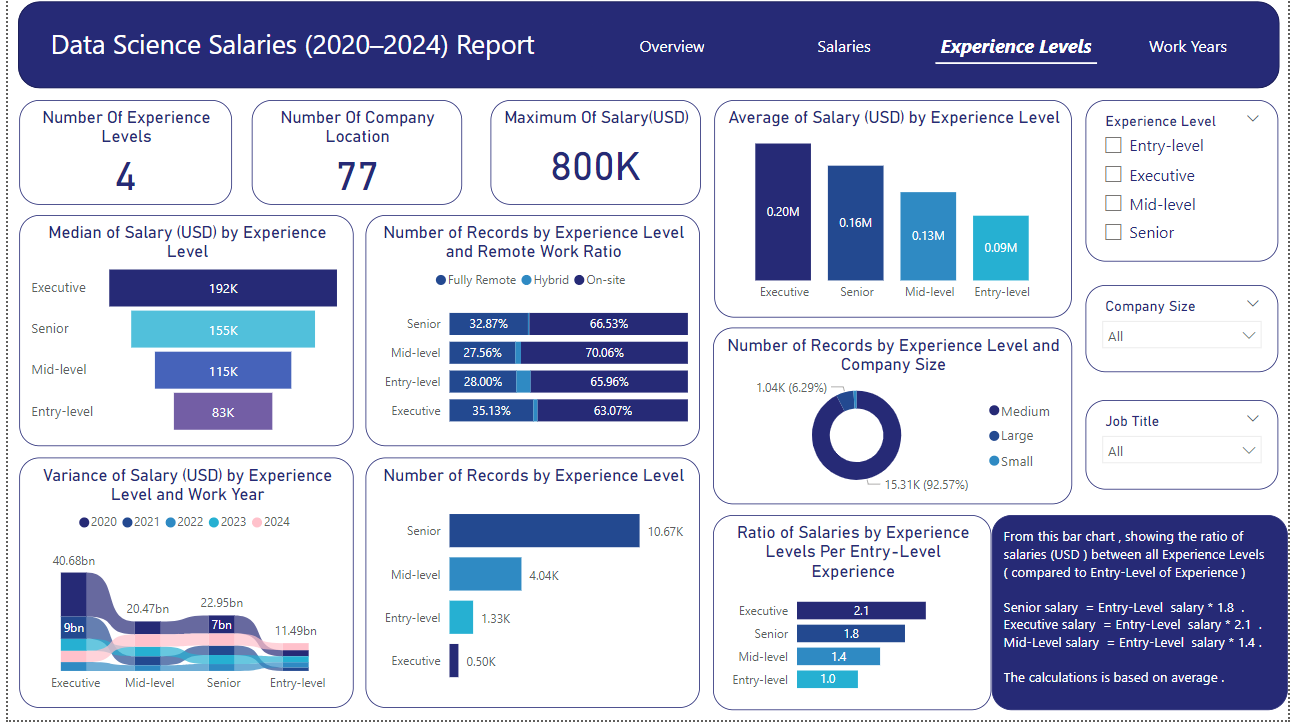

This screenshot's page, from the dashboard's own definition file:
{"tool":"powerbi","page":{"name":"Experience Levels","canvas":[1280,720],"ordinal":2},"visuals":[{"type":"shape","box":[10.5,1.2,1261.6,87.2],"z":0},{"type":"textbox","box":[30.2,20.5,509.1,45.8],"z":1000},{"type":"barChart","title":"Number of Records by Experience Level ","fields":{"Category":["Dataset salary 2024.Experience Level"],"Y":["CountNonNull(Dataset salary 2024.Experience Level)"],"Series":["Dataset salary 2024.Experience Level"]},"box":[357.9,458.1,334.7,250.4],"z":2000},{"type":"donutChart","title":"Number of Records by Experience Level and Company Size","fields":{"Category":["Dataset salary 2024.Company Size"],"Y":["CountNonNull(Dataset salary 2024.Experience Level)"]},"box":[704.9,327.4,359.2,177.1],"z":3000},{"type":"card","title":"Number Of Experience Levels","fields":{"Values":["Count(Dataset salary 2024.Experience Level)"]},"box":[11,100.2,212.6,105.1],"z":4000},{"type":"slicer","fields":{"Values":["Dataset salary 2024.Company Size"]},"box":[1077.4,284.7,193,86.9],"z":5000},{"type":"slicer","fields":{"Values":["Dataset salary 2024.Job Title"]},"box":[1077.4,400.5,193,89.3],"z":6000},{"type":"slicer","fields":{"Values":["Dataset salary 2024.Experience Level"]},"box":[1077.4,100.1,193,161.7],"z":7000},{"type":"columnChart","title":"Average of Salary (USD) by Experience Level ","fields":{"Category":["Dataset salary 2024.Experience Level"],"Y":["Avg(Dataset salary 2024.Salary (USD))"],"Series":["Dataset salary 2024.Experience Level"]},"box":[706.1,100.2,357.9,217.4],"z":8000},{"type":"card","title":"Number Of Company Location","fields":{"Values":["Count(Dataset salary 2024.Company Location)"]},"box":[244.3,100.2,210.1,105.1],"z":9000},{"type":"card","title":"Maximum Of Salary(USD)","fields":{"Values":["Max(Dataset salary 2024.Salary (USD))"]},"box":[482.5,100.2,210.1,105.1],"z":10000},{"type":"hundredPercentStackedBarChart","title":"Number of Records by Experience Level and Remote Work Ratio","fields":{"Category":["Dataset salary 2024.Experience Level"],"Y":["CountNonNull(Dataset salary 2024.Remote Work Ratio)"],"Series":["Dataset salary 2024.Remote Work Ratio"]},"box":[357.9,215,334.7,230.9],"z":11000},{"type":"pageNavigator","box":[576.7,20.1,694.8,51.5],"z":12000},{"type":"funnel","fields":{"Category":["Dataset salary 2024.Experience Level"],"Y":["Median(Dataset salary 2024.Salary (USD))"]},"box":[11,215,334.7,230.9],"z":13000},{"type":"ribbonChart","title":"Variance of Salary (USD) by Experience Level and Work Year ","fields":{"Category":["Dataset salary 2024.Experience Level"],"Y":["Variance(Dataset salary 2024.Salary (USD))"],"Series":["Dataset salary 2024.Work Year"]},"box":[11,458.1,334.7,250.4],"z":14000},{"type":"barChart","title":"Ratio of Salaries by Experience Levels Per Entry-Level Experience ","fields":{"Category":["Dataset salary 2024.Experience Level"],"Y":["Dataset salary 2024.Ratio To Entry-Level Salary"],"Series":["Dataset salary 2024.Experience Level"]},"box":[705,515,278.8,195],"z":15000},{"type":"textbox","box":[983.8,515,296.2,195],"z":16000}]}

Visuals, with their boxes in screenshot pixels (x1, y1, x2, y2), scaled from the page's 1280x720 canvas onto the 1295x726 screenshot:
shape: <bbox>11, 1, 1287, 89</bbox>
textbox: <bbox>31, 21, 546, 67</bbox>
"Number of Records by Experience Level " barChart: <bbox>362, 462, 701, 714</bbox>
"Number of Records by Experience Level and Company Size" donutChart: <bbox>713, 330, 1077, 509</bbox>
"Number Of Experience Levels" card: <bbox>11, 101, 226, 207</bbox>
slicer - Dataset salary 2024.Company Size: <bbox>1090, 287, 1285, 375</bbox>
slicer - Dataset salary 2024.Job Title: <bbox>1090, 404, 1285, 494</bbox>
slicer - Dataset salary 2024.Experience Level: <bbox>1090, 101, 1285, 264</bbox>
"Average of Salary (USD) by Experience Level " columnChart: <bbox>714, 101, 1076, 320</bbox>
"Number Of Company Location" card: <bbox>247, 101, 460, 207</bbox>
"Maximum Of Salary(USD)" card: <bbox>488, 101, 701, 207</bbox>
"Number of Records by Experience Level and Remote Work Ratio" hundredPercentStackedBarChart: <bbox>362, 217, 701, 450</bbox>
pageNavigator: <bbox>583, 20, 1286, 72</bbox>
funnel - Dataset salary 2024.Experience Level x Median(Dataset salary 2024.Salary (USD)): <bbox>11, 217, 350, 450</bbox>
"Variance of Salary (USD) by Experience Level and Work Year " ribbonChart: <bbox>11, 462, 350, 714</bbox>
"Ratio of Salaries by Experience Levels Per Entry-Level Experience " barChart: <bbox>713, 519, 995, 716</bbox>
textbox: <bbox>995, 519, 1294, 716</bbox>
